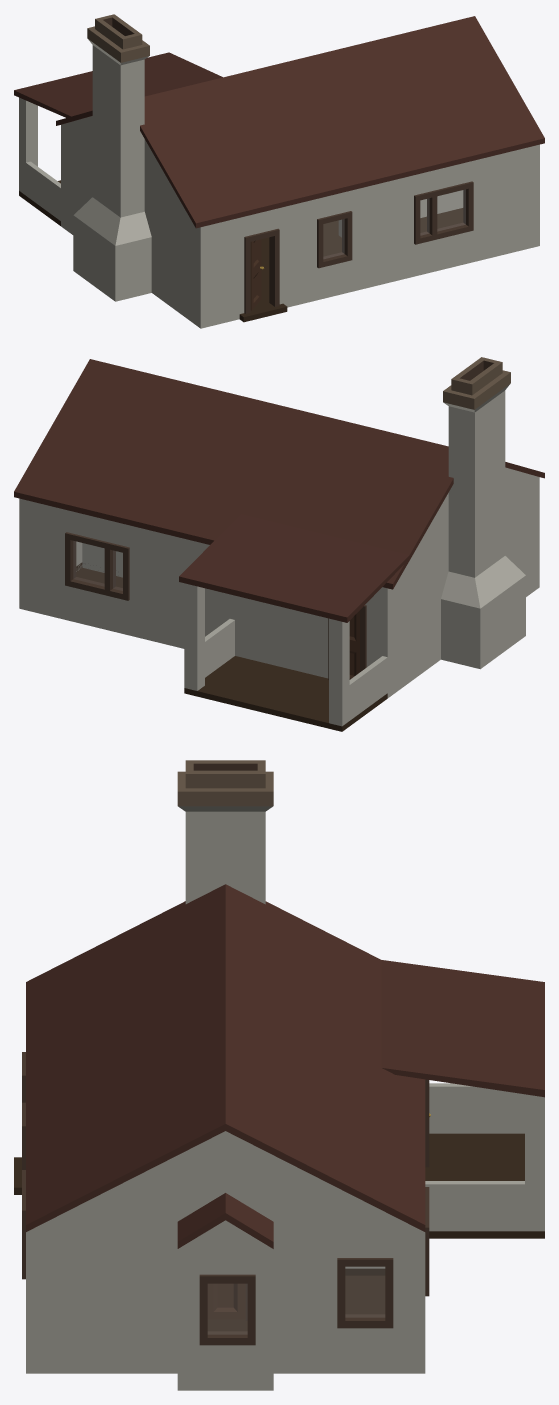
File: house.fbx
3 views of the same model, one above another, from view 1: azimuth 30°, elevation 25°; view 2: azimuth 150°, elevation 25°; view 3: azimuth 270°, elevation 25° (orthographic). The views are drawn at different scales.
Parts seen in each view (by area): view 1: Roof, Outer Walls, Chimney, Windows, Inner Walls, Floor, Attic, Doorways, Doors; view 2: Roof, Outer Walls, Chimney, Inner Walls, Floor, Windows, Attic, Doors, Doorways; view 3: Roof, Outer Walls, Inner Walls, Attic, Chimney, Windows, Floor, Doors, Doorways.
Boxes of the visible parts, bbox=[...] form: Roof: bbox=[14, 16, 544, 228]; Outer Walls: bbox=[61, 125, 539, 328]; Chimney: bbox=[73, 14, 151, 301]; Windows: bbox=[317, 181, 473, 268]; Inner Walls: bbox=[19, 97, 463, 237]; Floor: bbox=[19, 180, 463, 322]; Attic: bbox=[61, 116, 190, 219]; Doorways: bbox=[244, 228, 279, 313]; Doors: bbox=[250, 239, 263, 310]; Roof: bbox=[14, 359, 544, 622]; Outer Walls: bbox=[19, 477, 539, 698]; Chimney: bbox=[441, 357, 525, 669]; Inner Walls: bbox=[82, 543, 387, 726]; Floor: bbox=[76, 562, 387, 731]; Windows: bbox=[65, 532, 129, 600]; Attic: bbox=[398, 467, 539, 580]; Doors: bbox=[349, 610, 359, 679]; Doorways: bbox=[328, 605, 366, 679]; Roof: bbox=[26, 884, 544, 1248]; Outer Walls: bbox=[26, 1229, 425, 1373]; Inner Walls: bbox=[177, 1083, 544, 1390]; Attic: bbox=[33, 1131, 417, 1245]; Chimney: bbox=[177, 760, 273, 904]; Windows: bbox=[22, 1102, 429, 1345]; Floor: bbox=[14, 1133, 544, 1331]; Doors: bbox=[207, 1113, 430, 1319]; Doorways: bbox=[22, 1052, 429, 1320].
Size of the model in its own units: 1670 by 1000 by 1330.
